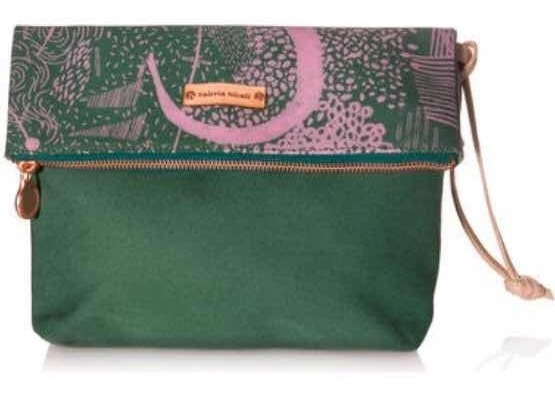cartera: (4, 16, 484, 355)
